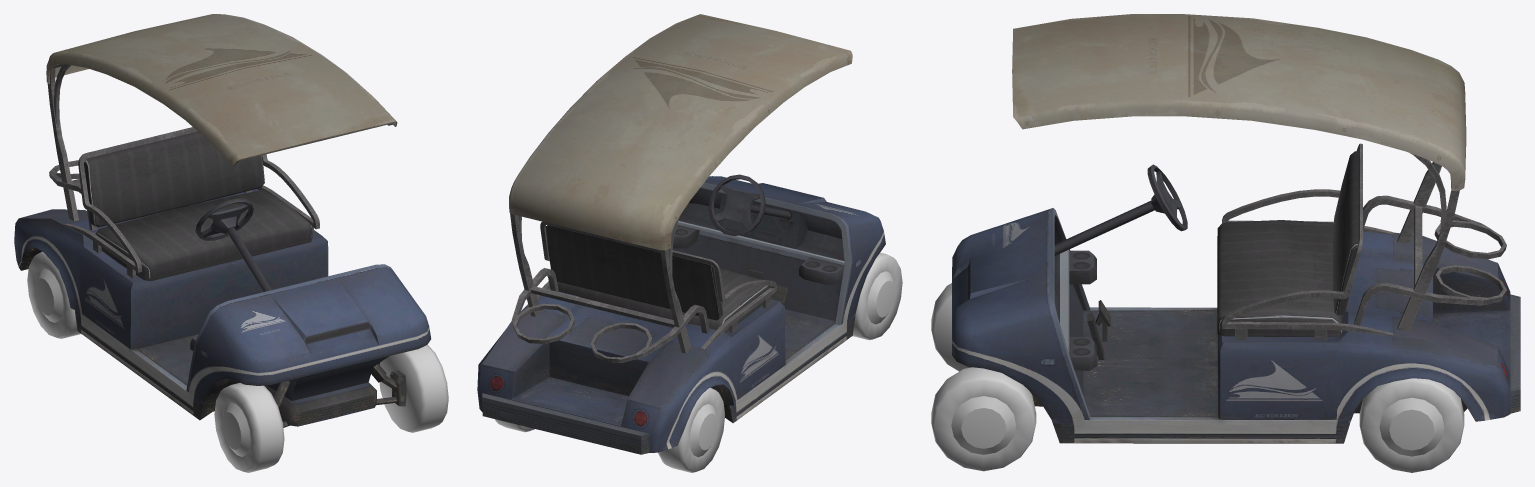
Rendered from cart.FBX.
3 views of the same model, side by side, from view 1: azimuth 30°, elevation 25°; view 2: azimuth 150°, elevation 25°; view 3: azimuth 270°, elevation 25° (orthographic). The views are drawn at different scales.
Visible parts, largest first — view 1: body, wheel 2, wheel 1, wheel 4, rudder; view 2: body, wheel 4, wheel 2, rudder; view 3: body, wheel 1, wheel 3, wheel 2, rudder.
Part boxes in pixels (x1,y1,x2,y2): body: [14, 14, 431, 427]; wheel 2: [214, 383, 284, 472]; wheel 1: [379, 344, 448, 432]; wheel 4: [27, 251, 80, 338]; rudder: [195, 198, 253, 240]; body: [477, 14, 885, 454]; wheel 4: [658, 387, 724, 472]; wheel 2: [852, 252, 902, 340]; rudder: [708, 174, 765, 235]; body: [952, 14, 1520, 443]; wheel 1: [931, 367, 1036, 471]; wheel 3: [1359, 378, 1464, 472]; wheel 2: [931, 283, 970, 371]; rudder: [1147, 164, 1187, 231].
Size of the model in its own units: 127 by 182 by 266.
